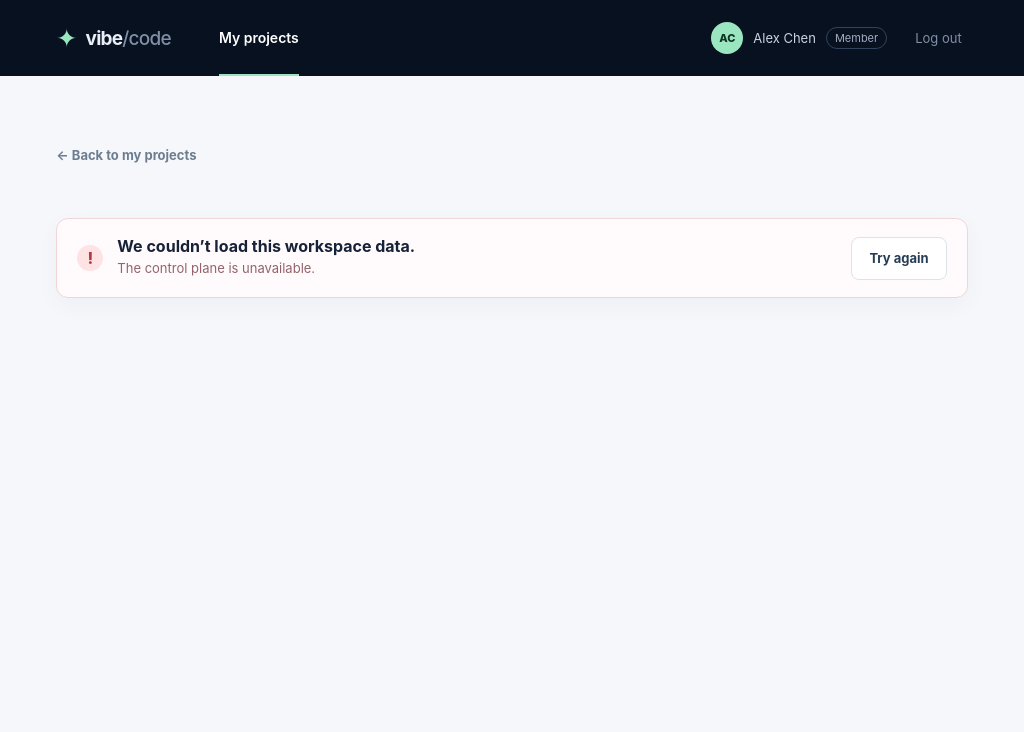
Test: portal entry journey › retries a failed project detail load
Expected: the message is shown, [56, 218, 968, 298]
Click the button "Try again": (899, 258) [851, 236, 947, 280]
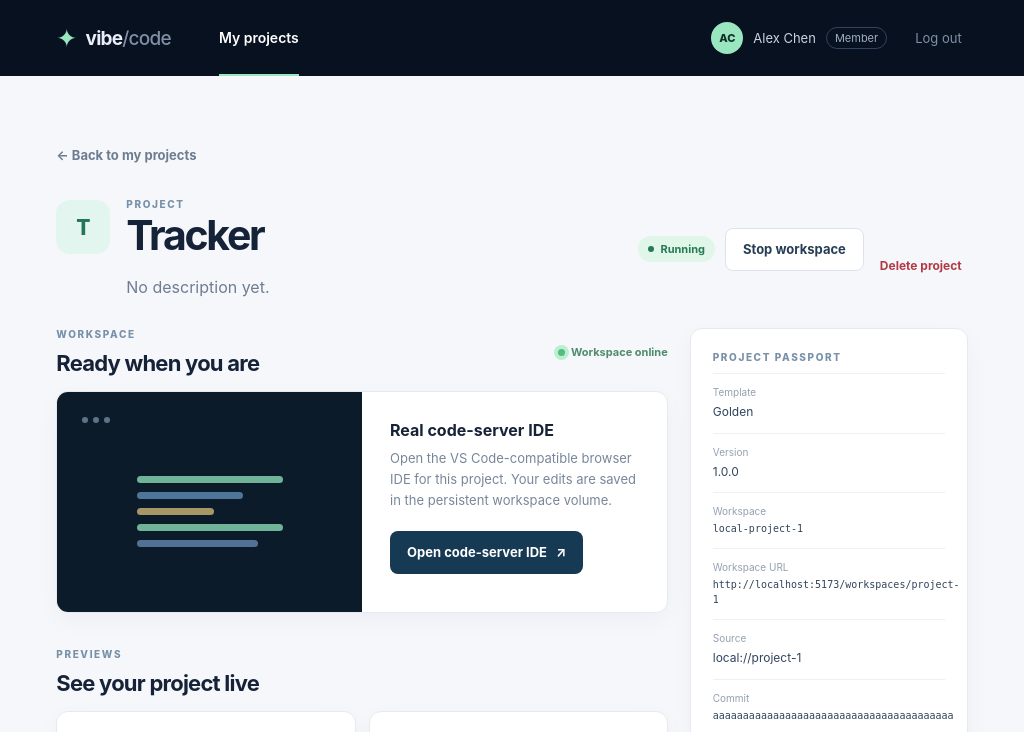
Now the heading "Tracker" is shown, box [126, 215, 264, 257]
